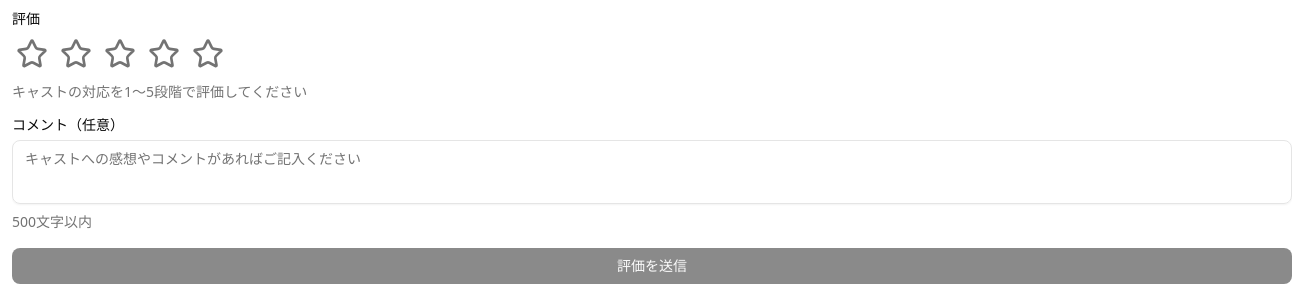
CastReviewForm › 星評価操作 › 星をクリックすると評価が変更される
//  3星をクリック
Click the button named "3星" at (120, 54), box [100,34,140,74]
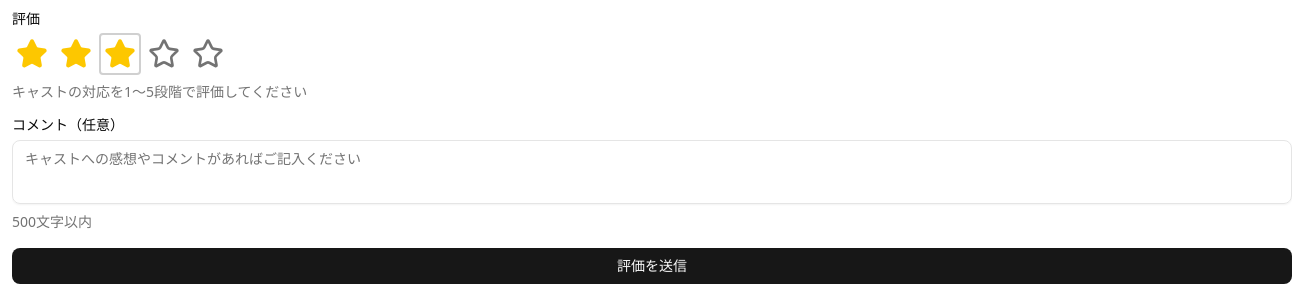
Check: the button "評価を送信" is enabled, box [12,248,1292,284]
